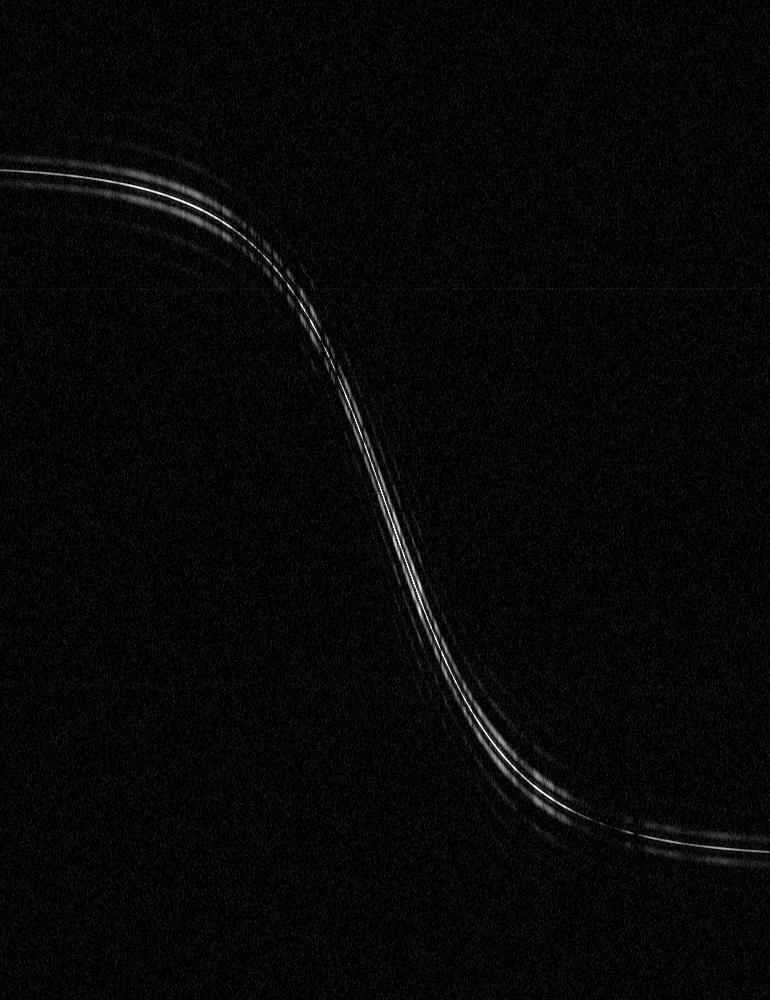signal: (0, 0, 769, 999)
